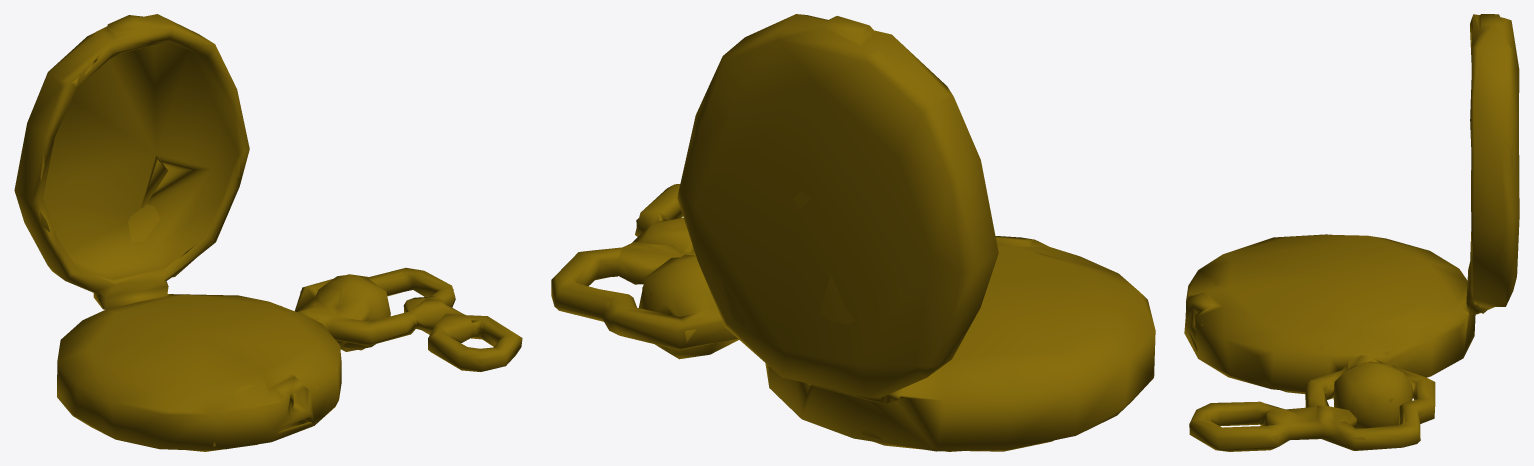
File: gen3d-pocket-watch-lod1.glb
3 renders of one model, left to right at view 1: azimuth 30°, elevation 25°; view 2: azimuth 150°, elevation 25°; view 3: azimuth 270°, elevation 25°, orthographic. The views are drawn at different scales.
Visible parts, largest first — view 1: part_0; view 2: part_0; view 3: part_0.
Part boxes in pixels (x1=…): part_0: x1=14, y1=14, x2=522, y2=451; part_0: x1=551, y1=14, x2=1155, y2=451; part_0: x1=1184, y1=14, x2=1519, y2=451.
Size of the model in its own units: 1.25 by 0.9994 by 0.9061.
